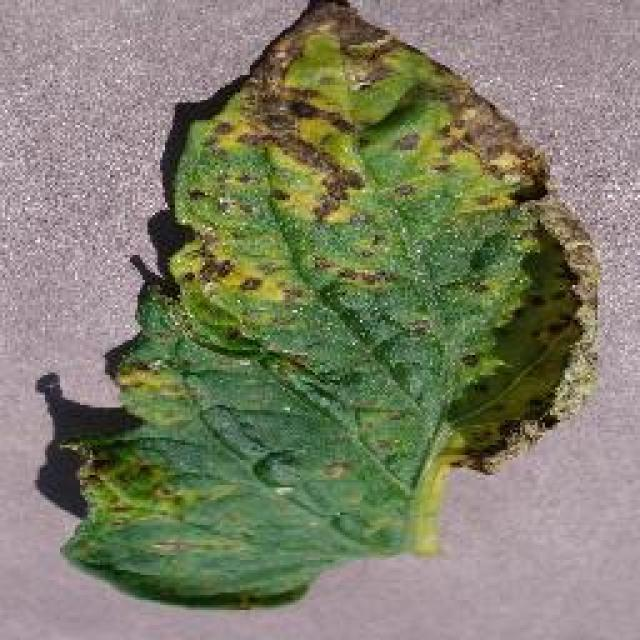Tomato___Septoria_leaf_spot: (62, 0, 595, 605)
